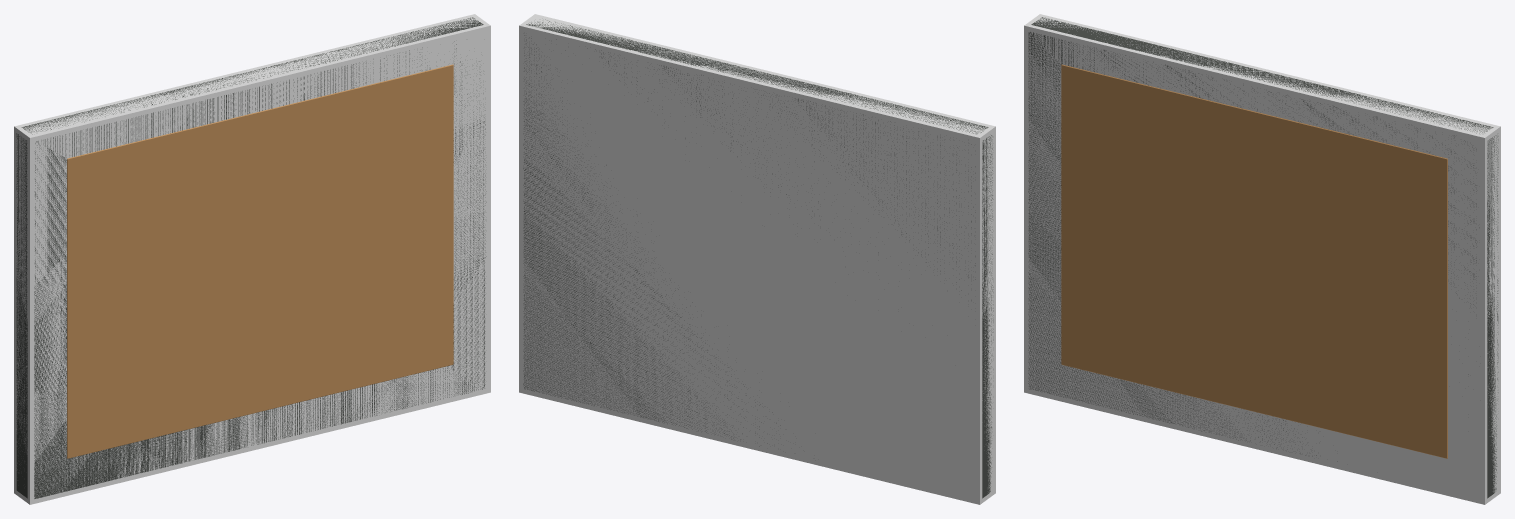
Rendered from wall-art_commercial.glb.
3 views of the same model, side by side, from view 1: azimuth 30°, elevation 25°; view 2: azimuth 150°, elevation 25°; view 3: azimuth 330°, elevation 25° (orthographic).
Visible parts, largest first — view 1: MESH_Inset, COL_wall-art, MESH_Frame; view 2: COL_wall-art, MESH_Frame; view 3: MESH_Inset, COL_wall-art, MESH_Frame.
Part boxes in pixels (left/top/right/bottom): MESH_Inset: left=67, top=64, right=453, bottom=458; COL_wall-art: left=14, top=14, right=490, bottom=504; MESH_Frame: left=16, top=17, right=486, bottom=498; COL_wall-art: left=519, top=14, right=995, bottom=504; MESH_Frame: left=523, top=19, right=993, bottom=498; MESH_Inset: left=1061, top=64, right=1447, bottom=458; COL_wall-art: left=1024, top=14, right=1500, bottom=504; MESH_Frame: left=1028, top=17, right=1498, bottom=498.
Bounding box in the file's own units: 0.92 × 0.7 × 0.0561.
